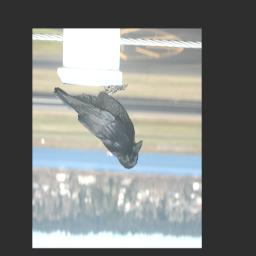Crow: (53, 84, 143, 170)
